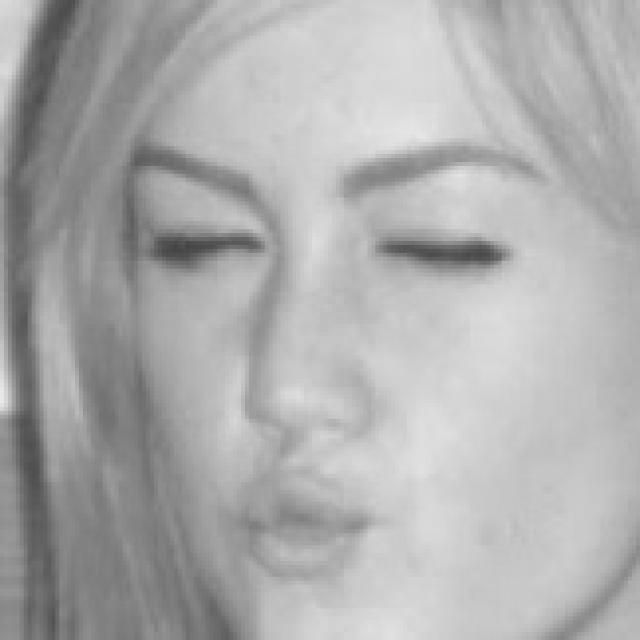real: (108, 18, 602, 574), (150, 184, 534, 308)
